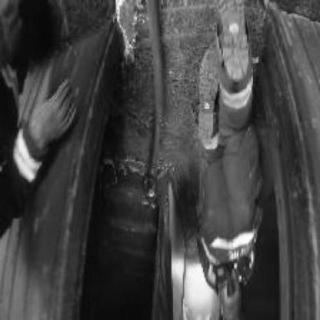Fire: (179, 252, 223, 314)
